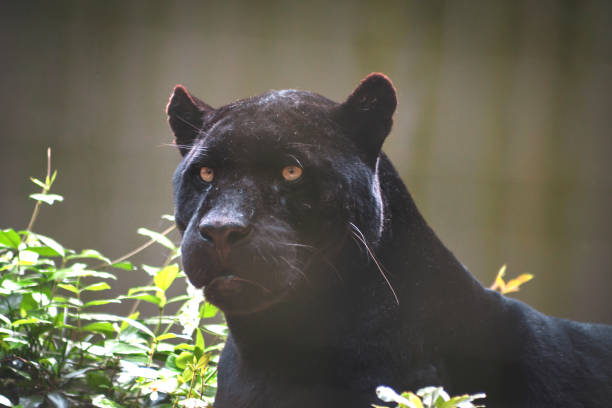panther: (143, 66, 441, 329)
